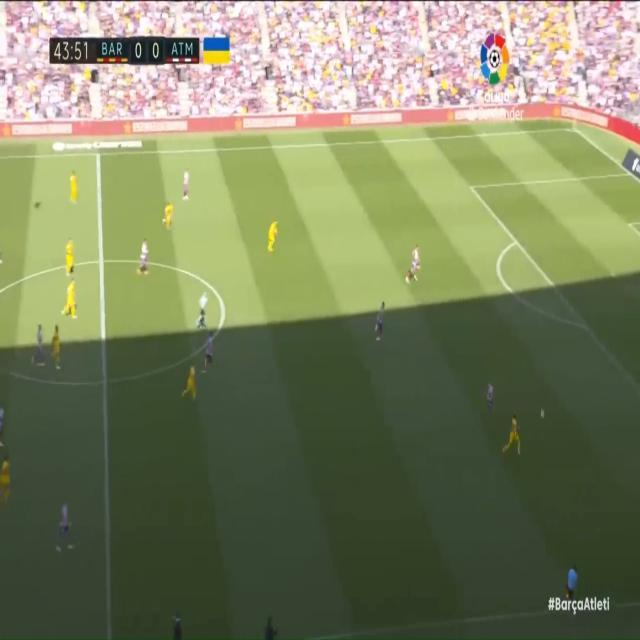ball: (537, 404, 547, 423)
player: (503, 414, 529, 468), (55, 495, 75, 560), (182, 351, 201, 413), (374, 300, 394, 349), (48, 324, 68, 372), (63, 279, 85, 322), (0, 448, 15, 509), (406, 242, 424, 290), (31, 321, 48, 371), (481, 371, 499, 417), (63, 237, 79, 287), (178, 164, 195, 207), (136, 235, 150, 283), (160, 201, 179, 236), (266, 217, 282, 258), (201, 335, 219, 371), (66, 167, 80, 206), (0, 398, 6, 448)
referee: (562, 557, 588, 614), (195, 292, 214, 334)
